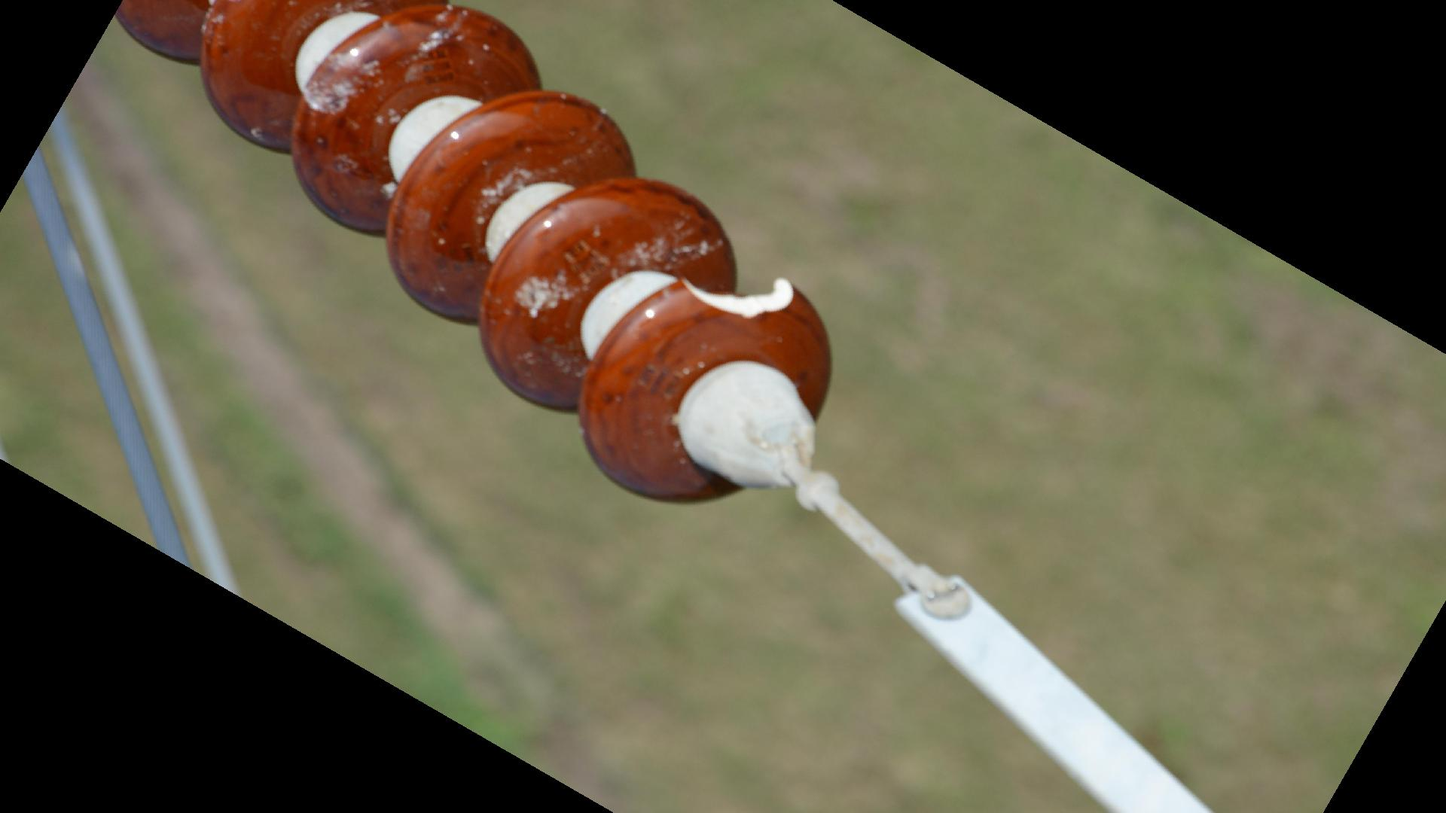insulator: (112, 1, 843, 515)
insulator_breakage: (668, 263, 807, 330)
